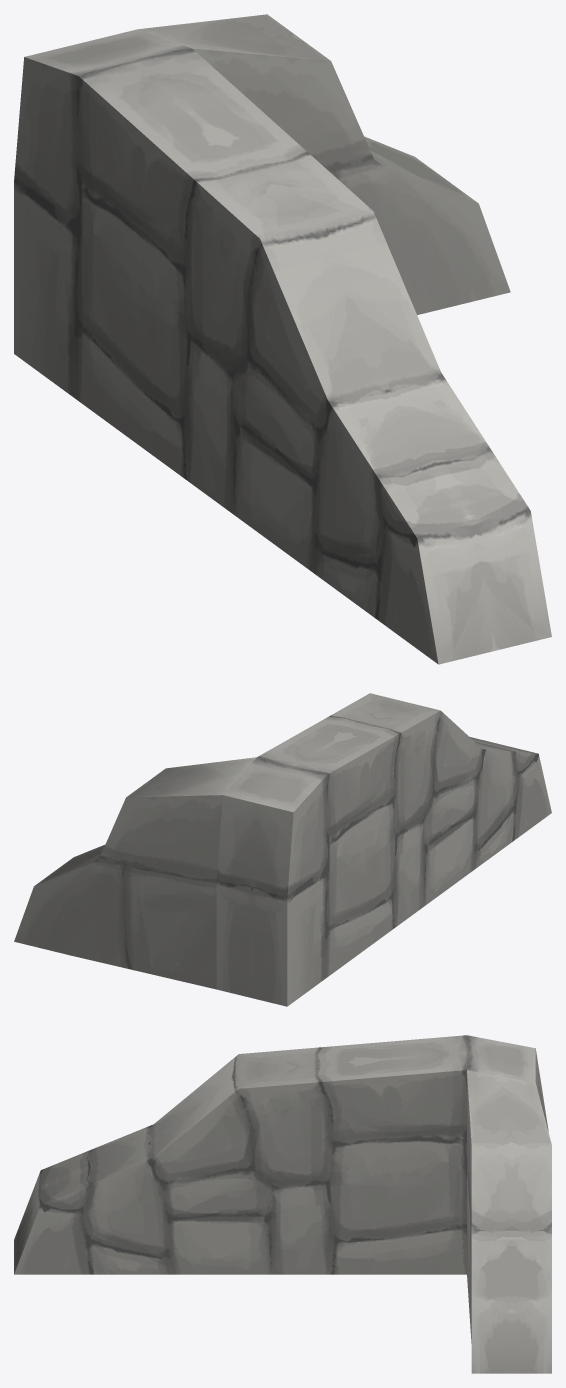
File: RuinedWall05_Geo.fbx
3 renders of one model, top to bottom at view 1: azimuth 30°, elevation 25°; view 2: azimuth 150°, elevation 25°; view 3: azimuth 270°, elevation 25°, orthographic. The views are drawn at different scales.
Visible parts, largest first — view 1: RuinedWall05_Geo; view 2: RuinedWall05_Geo; view 3: RuinedWall05_Geo.
Part boxes in pixels (x1,y1,x2,y2): RuinedWall05_Geo: (14,14,551,664); RuinedWall05_Geo: (14,693,551,1006); RuinedWall05_Geo: (14,1035,551,1373).
Size of the model in its own units: 103 by 73.47 by 175.
